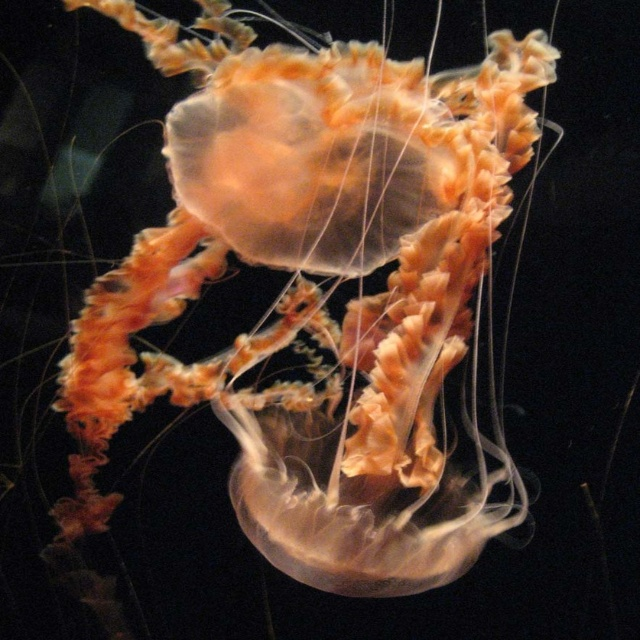Jellyfish: (0, 0, 567, 639)
